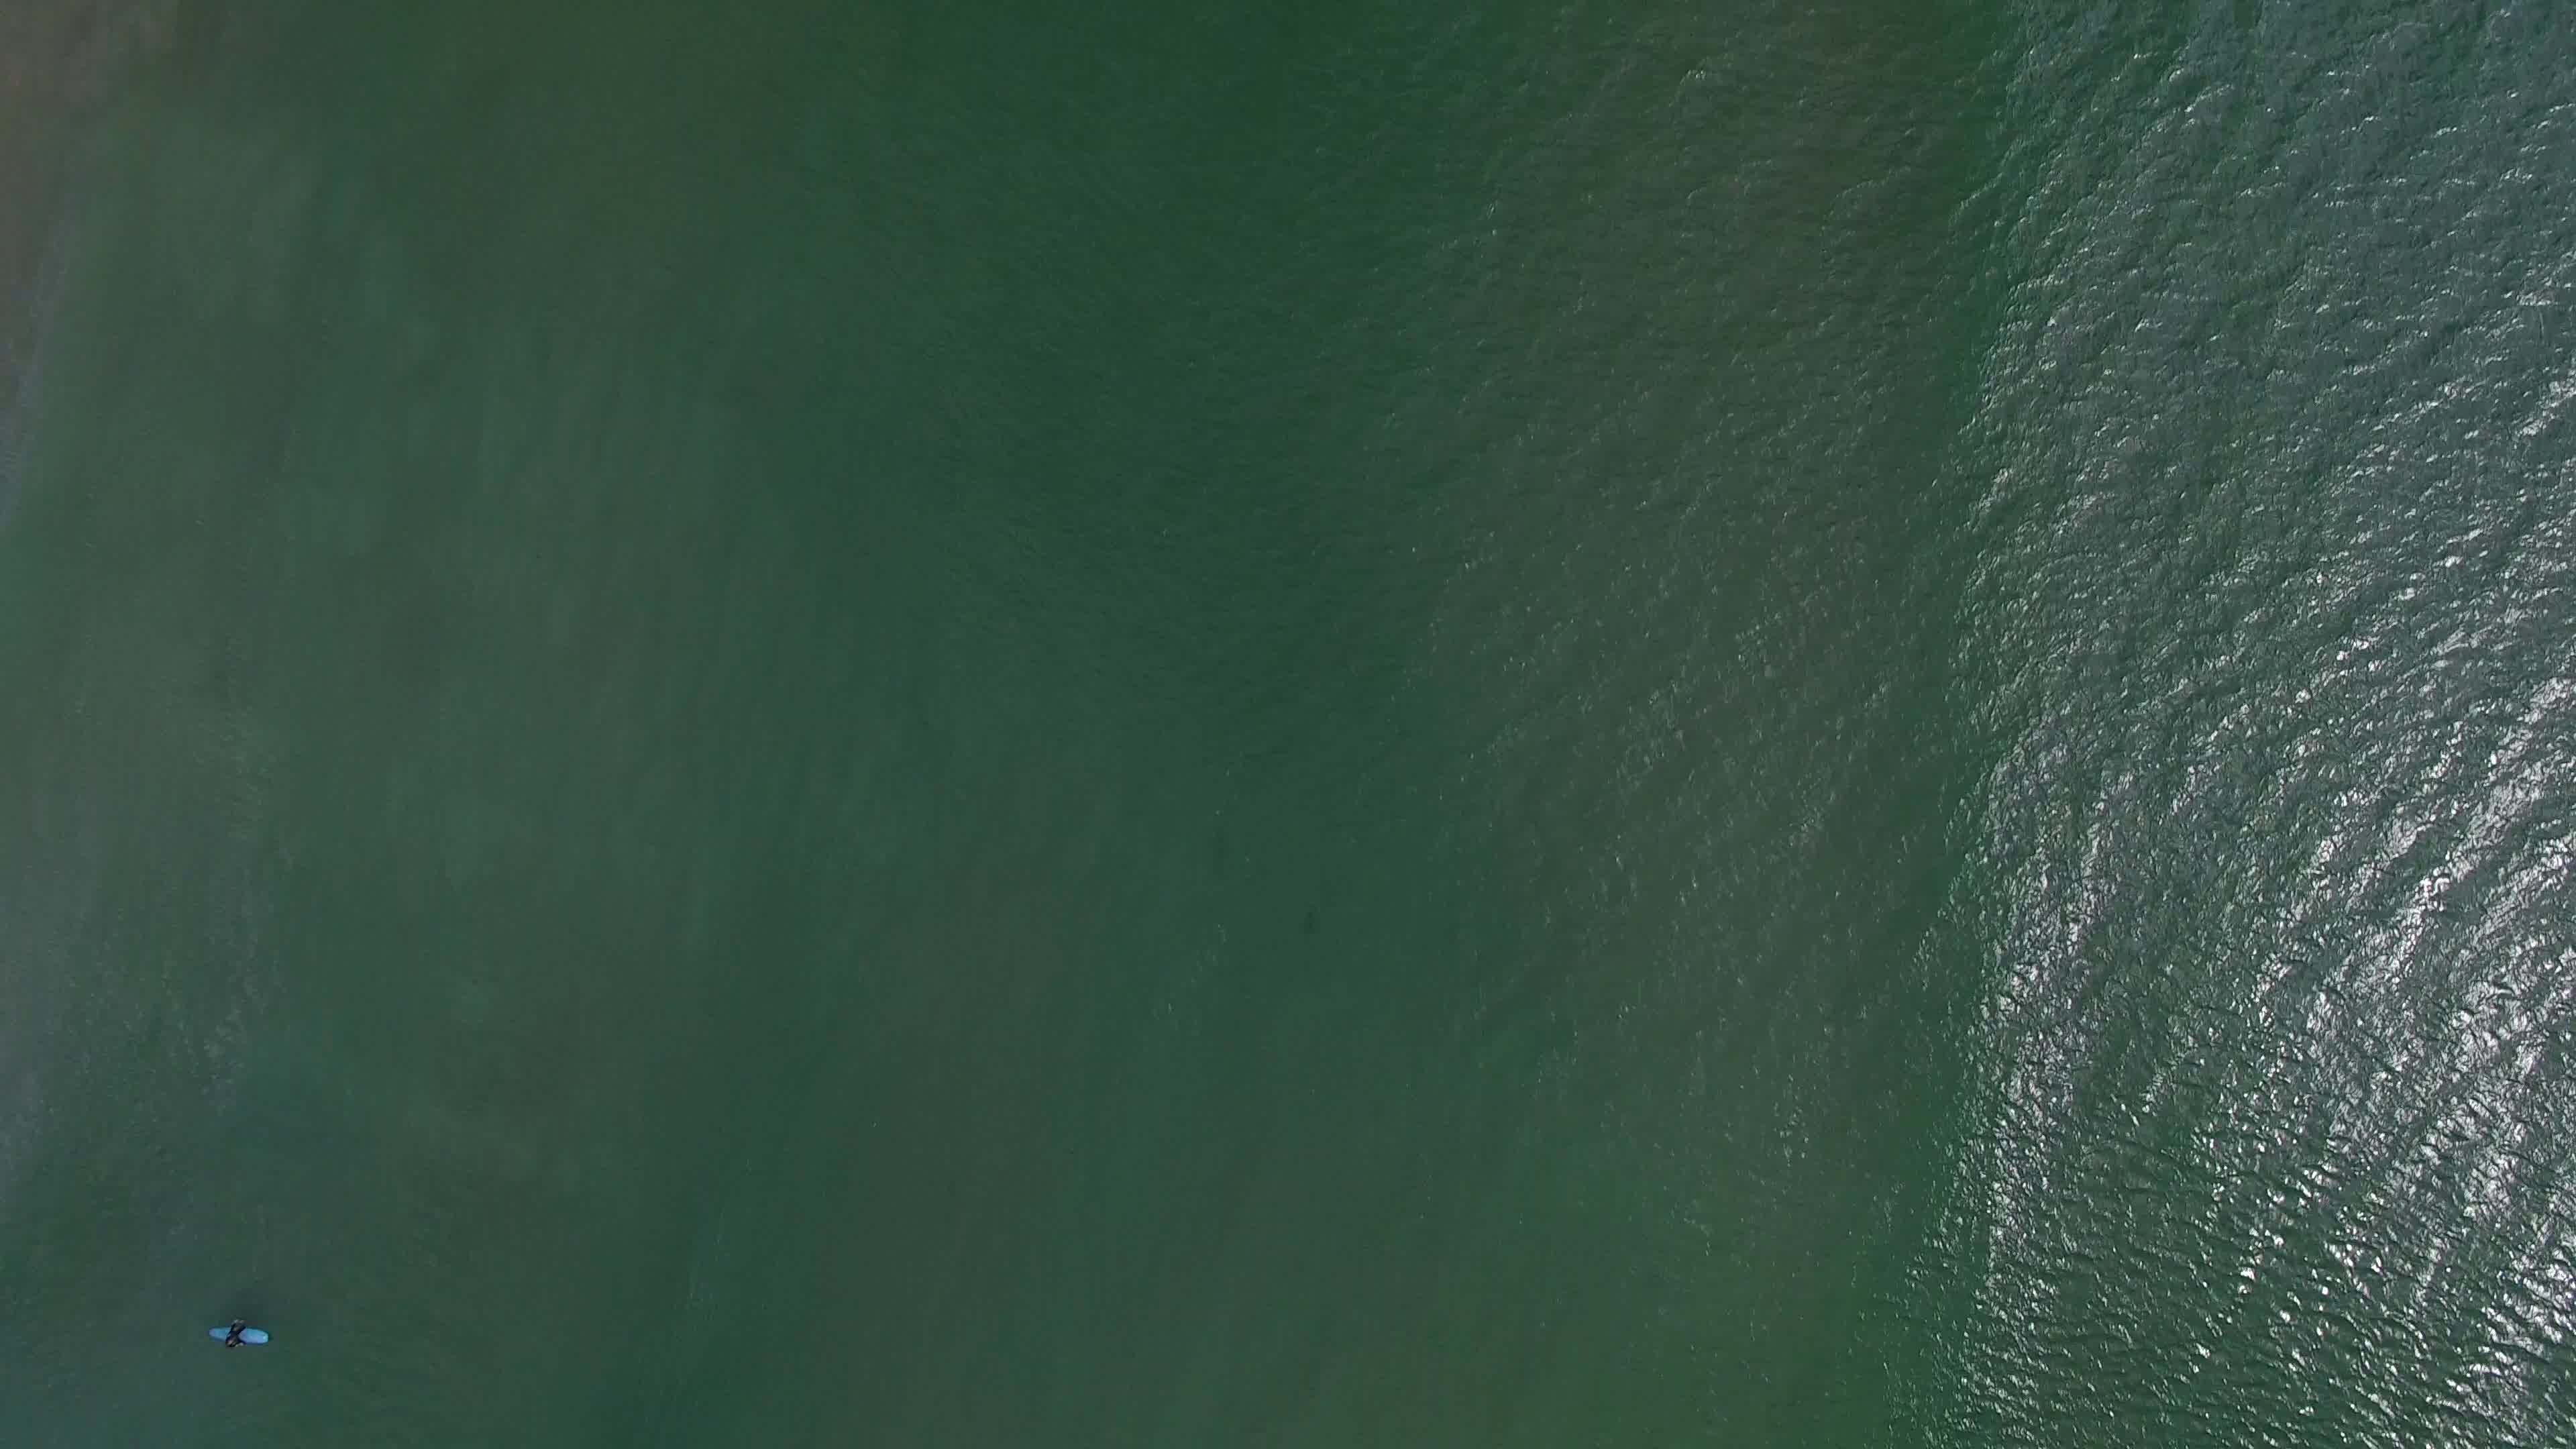surfer: (200, 1316, 278, 1359)
